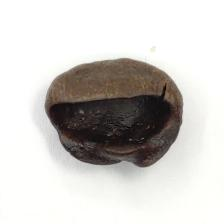NG: (47, 92, 178, 145), (88, 154, 158, 171)
